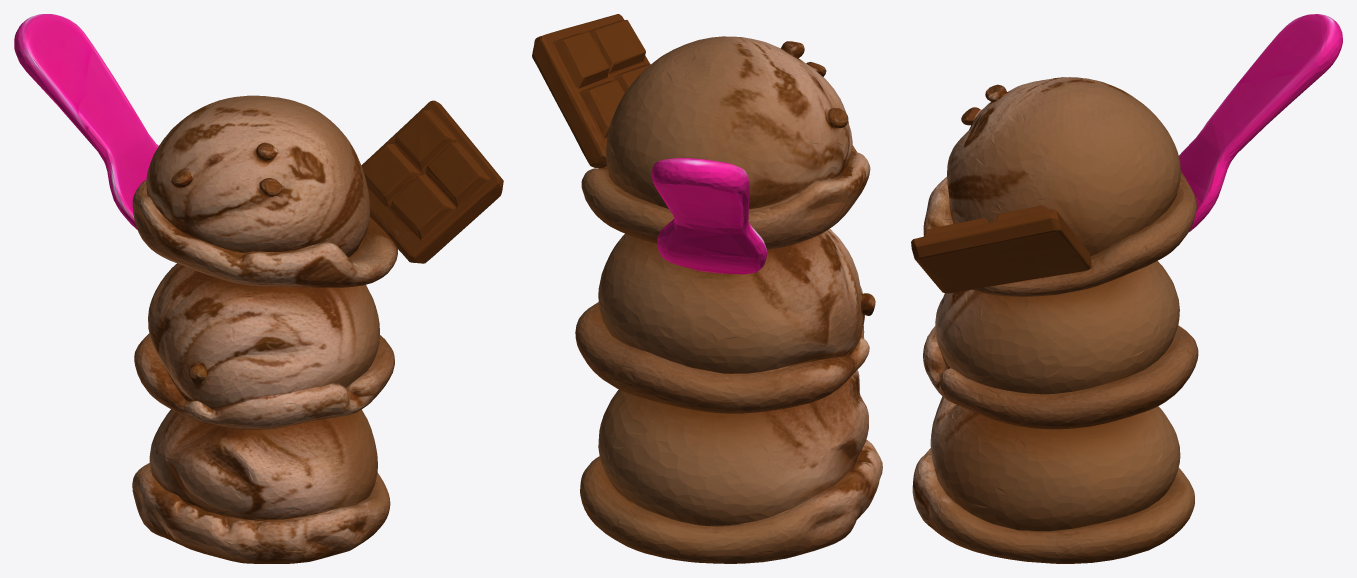
The model's file is Web_IceCream_Chocolate.obj.
3 views of the same model, side by side, from view 1: azimuth 30°, elevation 25°; view 2: azimuth 150°, elevation 25°; view 3: azimuth 270°, elevation 25° (orthographic). The views are drawn at different scales.
Parts seen in each view (by area): view 1: Web_IceCream_Chocolate; view 2: Web_IceCream_Chocolate; view 3: Web_IceCream_Chocolate.
Boxes of the visible parts, x1,y1,x2,y2 form: Web_IceCream_Chocolate: [14, 14, 503, 563]; Web_IceCream_Chocolate: [532, 14, 882, 563]; Web_IceCream_Chocolate: [911, 14, 1342, 563].
Size of the model in its own units: 0.683 by 0.9138 by 0.8083.
1 material, 1 textured.
